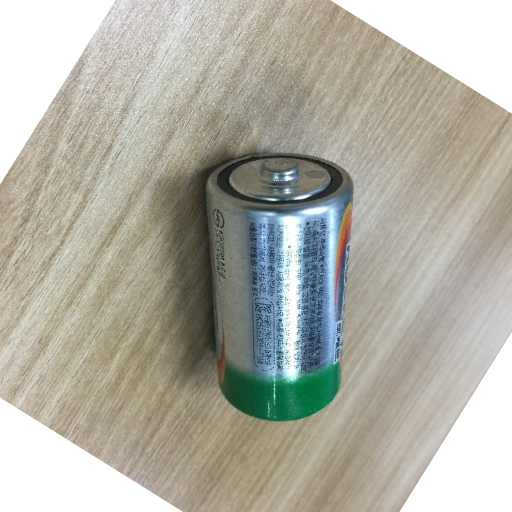Battery_0: (185, 142, 359, 423)
